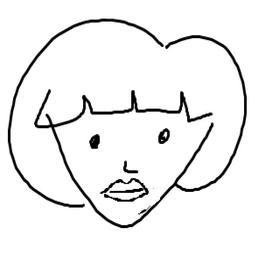cupid_mouth: (101, 177, 154, 204)
pointy_nose: (122, 154, 140, 176)
small_eye: (81, 128, 106, 156), (153, 121, 175, 145)
